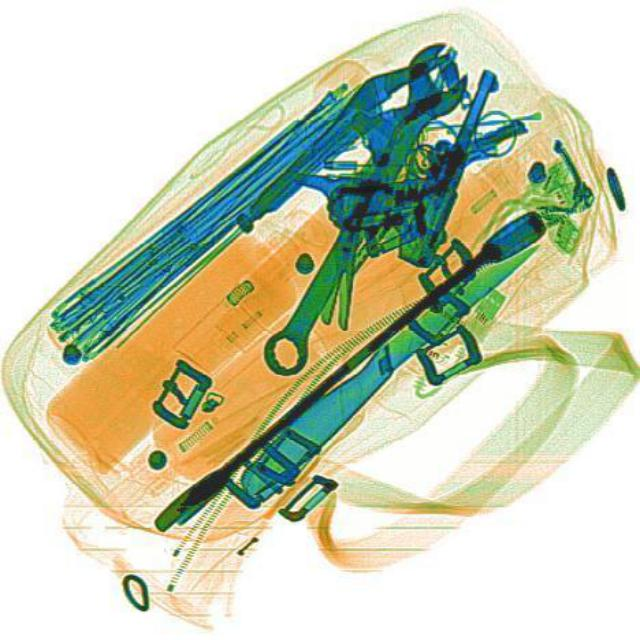Gun: (316, 39, 499, 268)
Knife: (228, 225, 548, 503)
Wrench: (240, 32, 482, 384)
